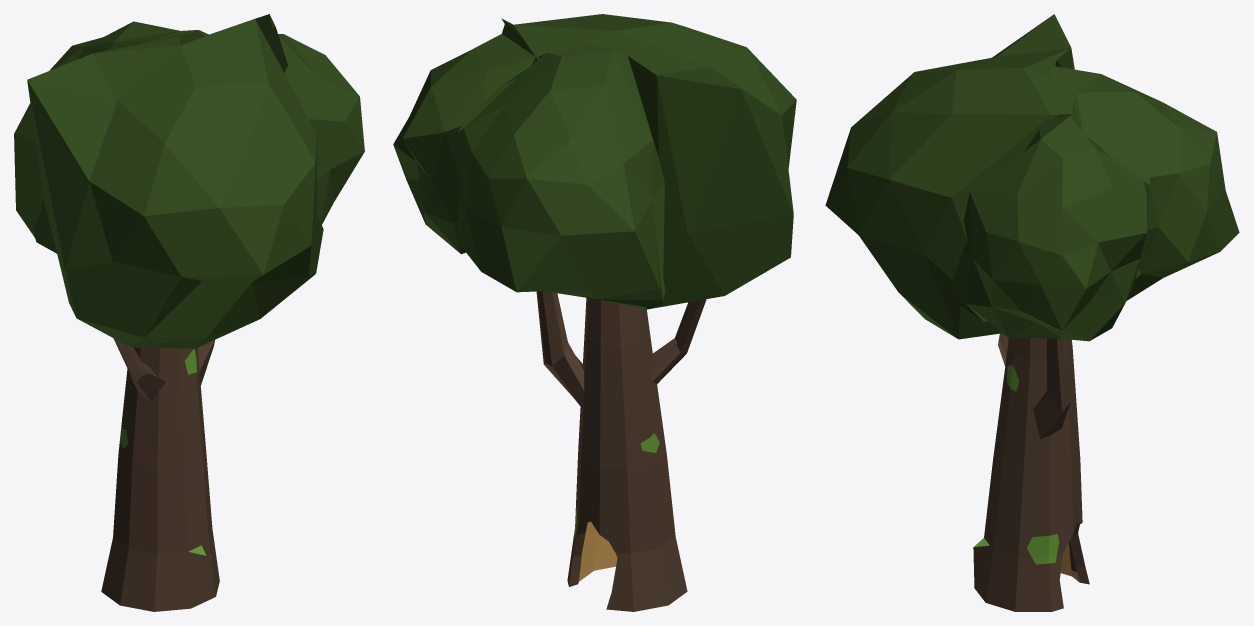
The model's file is hometree.fbx.
3 renders of one model, left to right at view 1: azimuth 30°, elevation 25°; view 2: azimuth 150°, elevation 25°; view 3: azimuth 270°, elevation 25°, orthographic. The views are drawn at different scales.
Visible parts, largest first — view 1: HomeTree; view 2: HomeTree; view 3: HomeTree.
Boxes of the visible parts, box(x1,y1,x2,y2) form: HomeTree: box(14, 14, 364, 611); HomeTree: box(393, 14, 796, 611); HomeTree: box(825, 14, 1239, 611).
Bounding box in the file's own units: 2695 × 4168 × 2965.
